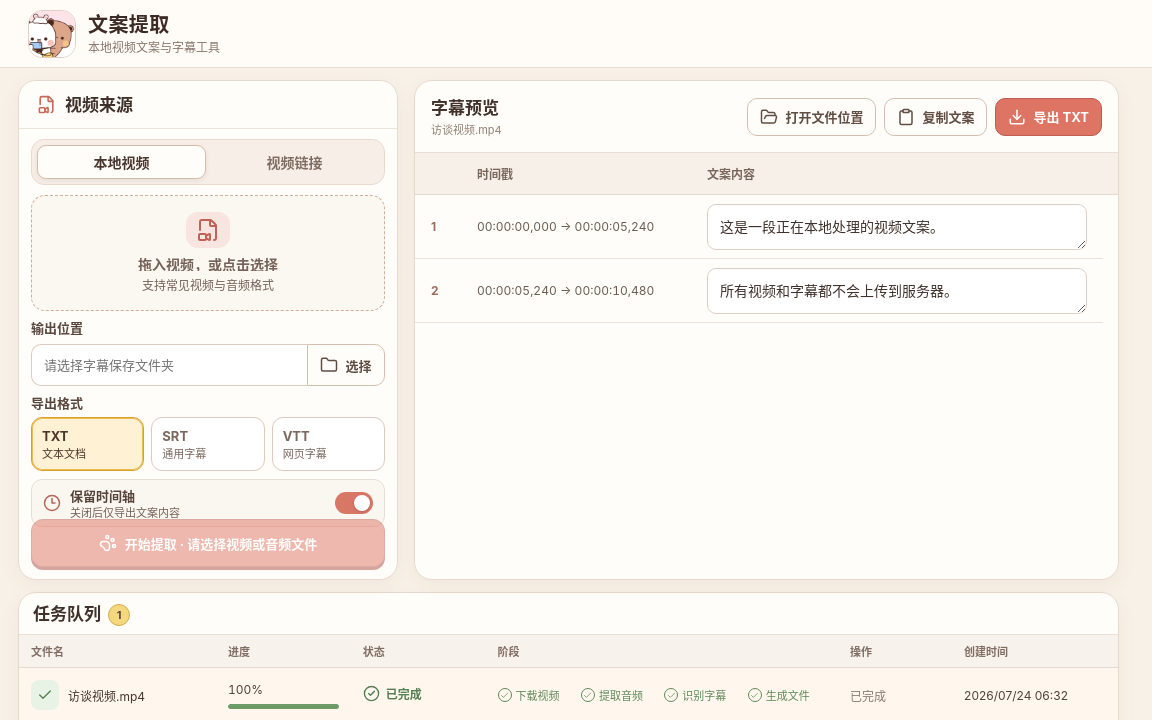
Test: App › defers an available update until edited subtitles are exported
Replace the text in the text box named "第 1 段文案" with "修改后的第一段文案。": (897, 226) [707,204,1087,250]
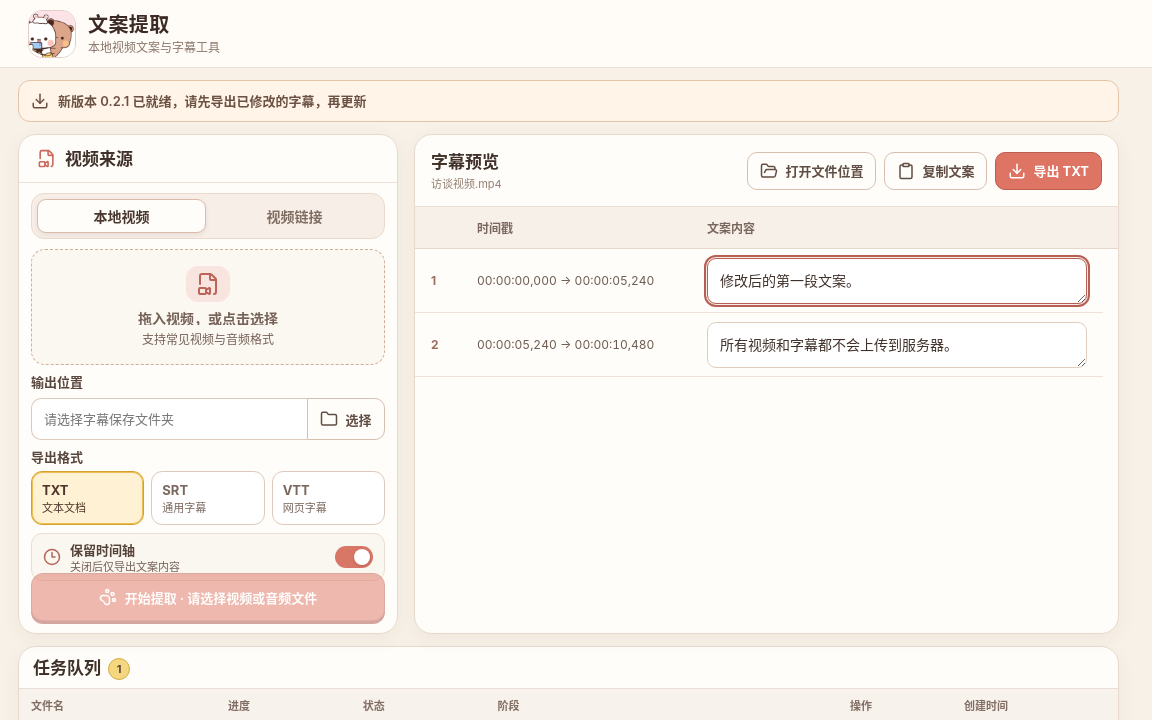
Now the text "新版本 0.2.1 已就绪，请先导出已修改的字幕，再更新" is shown, box [58,93,366,109]
Click the button "导出 TXT": click(1049, 170) [996,152,1102,190]
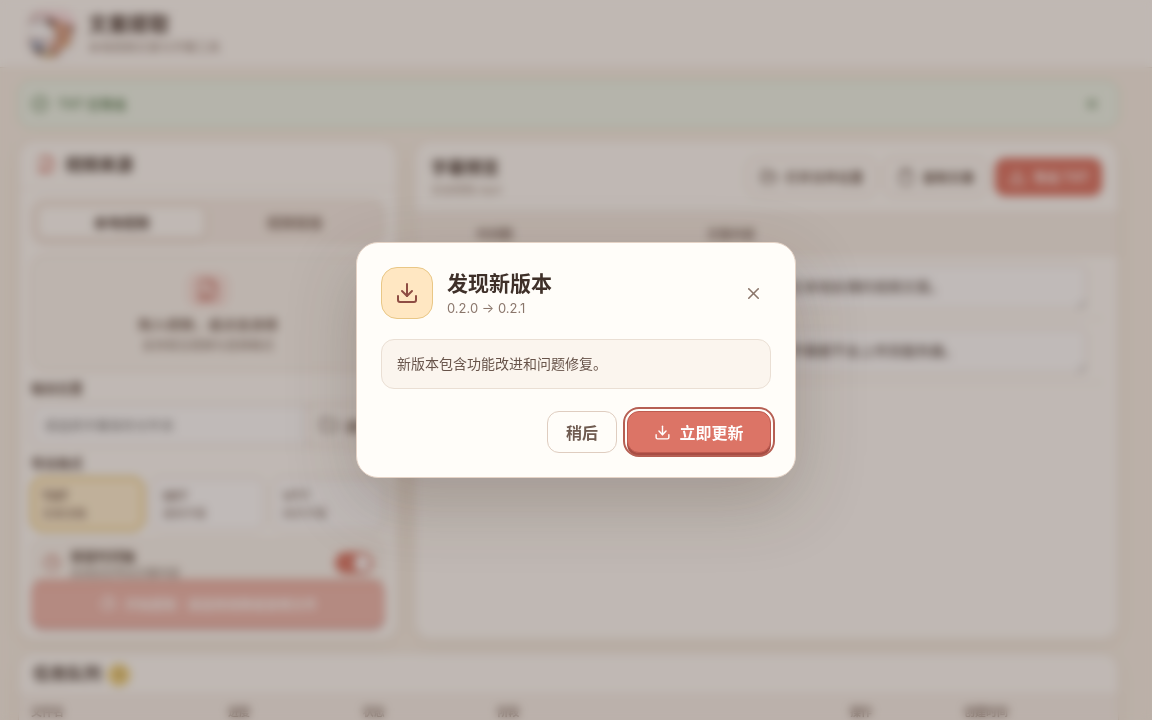
Now the dialog is shown, box [356,242,796,478]
